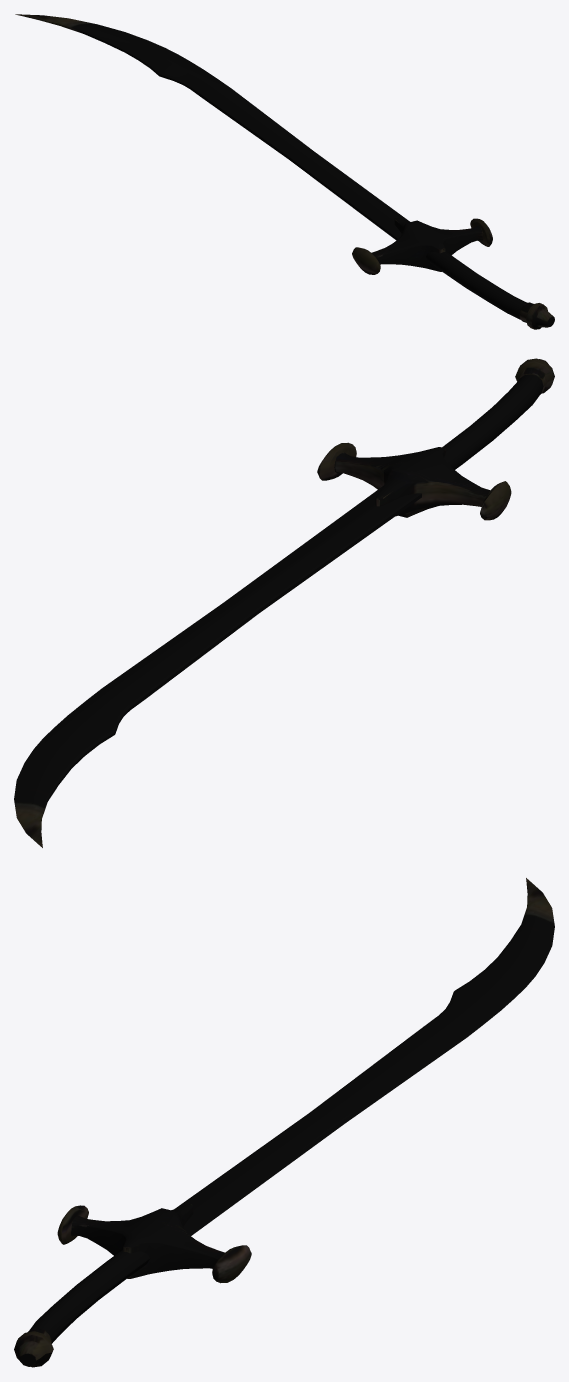
The picture shows the model from 3 angles, top to bottom: view 1: azimuth 30°, elevation 25°; view 2: azimuth 150°, elevation 25°; view 3: azimuth 330°, elevation 25°; orthographic projection. The views are drawn at different scales.
Parts seen in each view (by area): view 1: mesh_0; view 2: mesh_0; view 3: mesh_0.
Boxes of the visible parts, x1,y1,x2,y2 form: mesh_0: (15,14,554,329); mesh_0: (14,358,554,847); mesh_0: (14,878,554,1367).
Size of the model in its own units: 8.76 by 2.03 by 51.22.
1 material, 1 textured.
